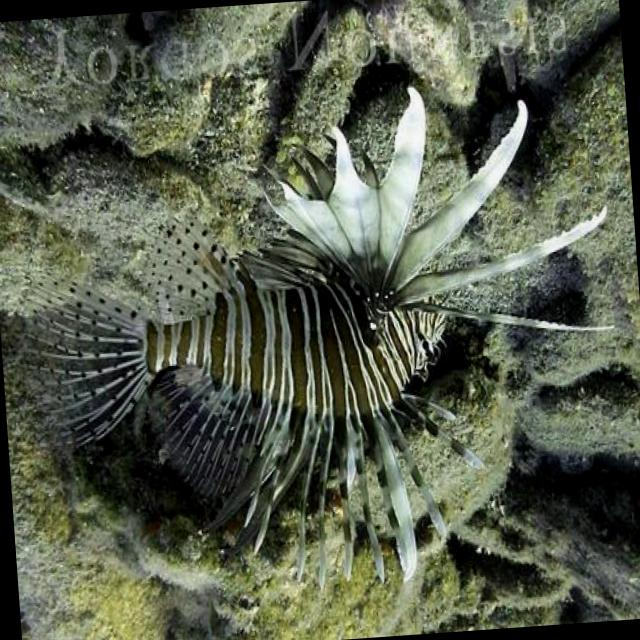Aslan Baligi: (8, 70, 634, 614)
